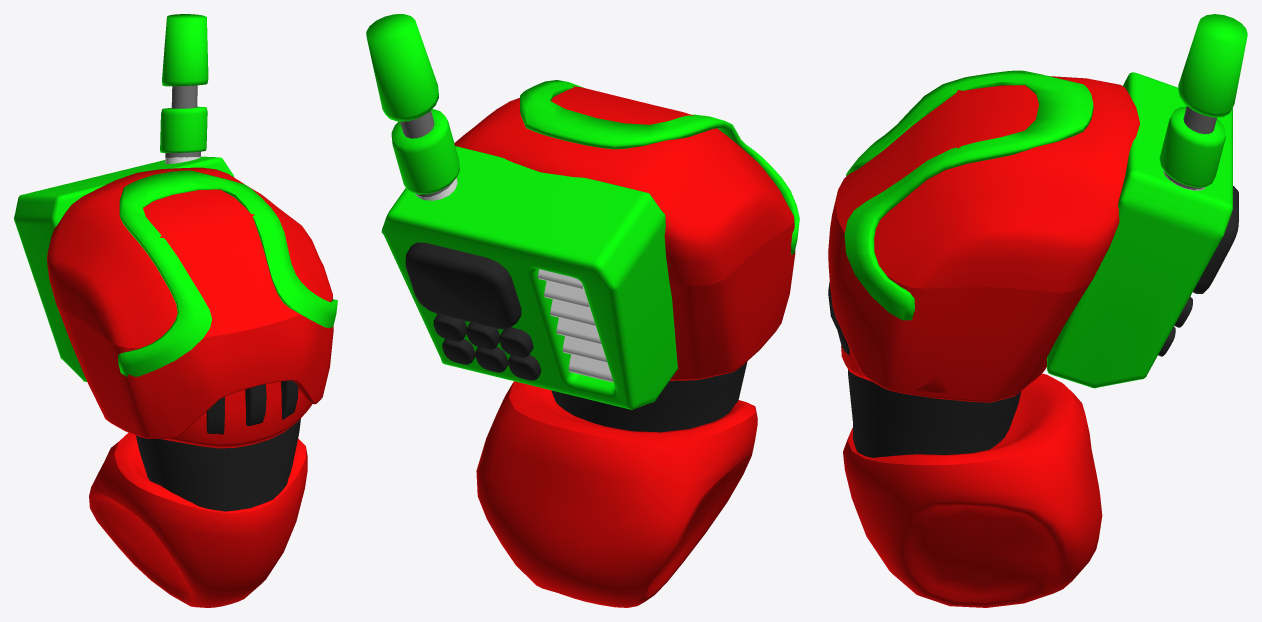
The model's file is Rabbot_Body.fbx.
The picture shows the model from 3 angles, left to right: view 1: azimuth 30°, elevation 25°; view 2: azimuth 150°, elevation 25°; view 3: azimuth 270°, elevation 25°; orthographic projection. The views are drawn at different scales.
Visible parts, largest first — view 1: Rabbot_Body; view 2: Rabbot_Body; view 3: Rabbot_Body.
Part boxes in pixels (left/top/right/bottom): Rabbot_Body: left=14, top=14, right=337, bottom=607; Rabbot_Body: left=366, top=14, right=799, bottom=607; Rabbot_Body: left=828, top=14, right=1247, bottom=607.
Size of the model in its own units: 30.01 by 62.49 by 38.07.
